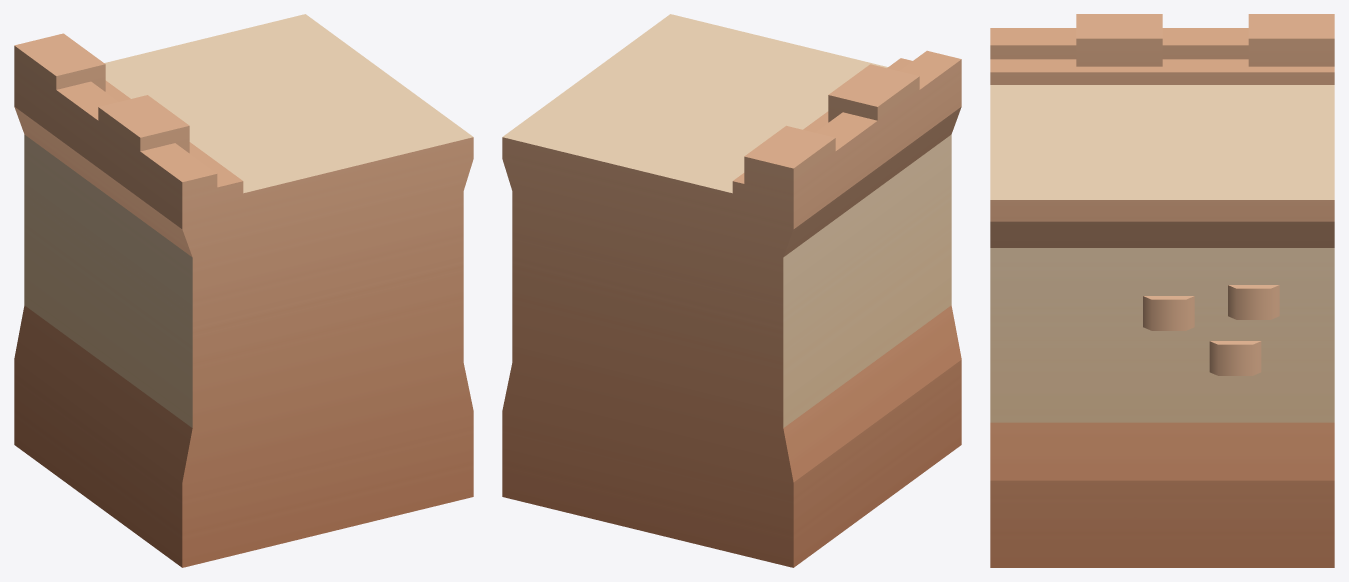
Rendered from wall-half.obj.
3 renders of one model, left to right at view 1: azimuth 30°, elevation 25°; view 2: azimuth 150°, elevation 25°; view 3: azimuth 270°, elevation 25°, orthographic. The views are drawn at different scales.
Parts seen in each view (by area): view 1: wall-half; view 2: wall-half; view 3: wall-half.
Boxes of the visible parts, x1=… form: wall-half: x1=14, y1=14, x2=473, y2=567; wall-half: x1=502, y1=14, x2=961, y2=567; wall-half: x1=990, y1=14, x2=1334, y2=567.
Size of the model in its own units: 1 by 1.31 by 1.
1 material, 1 textured.
